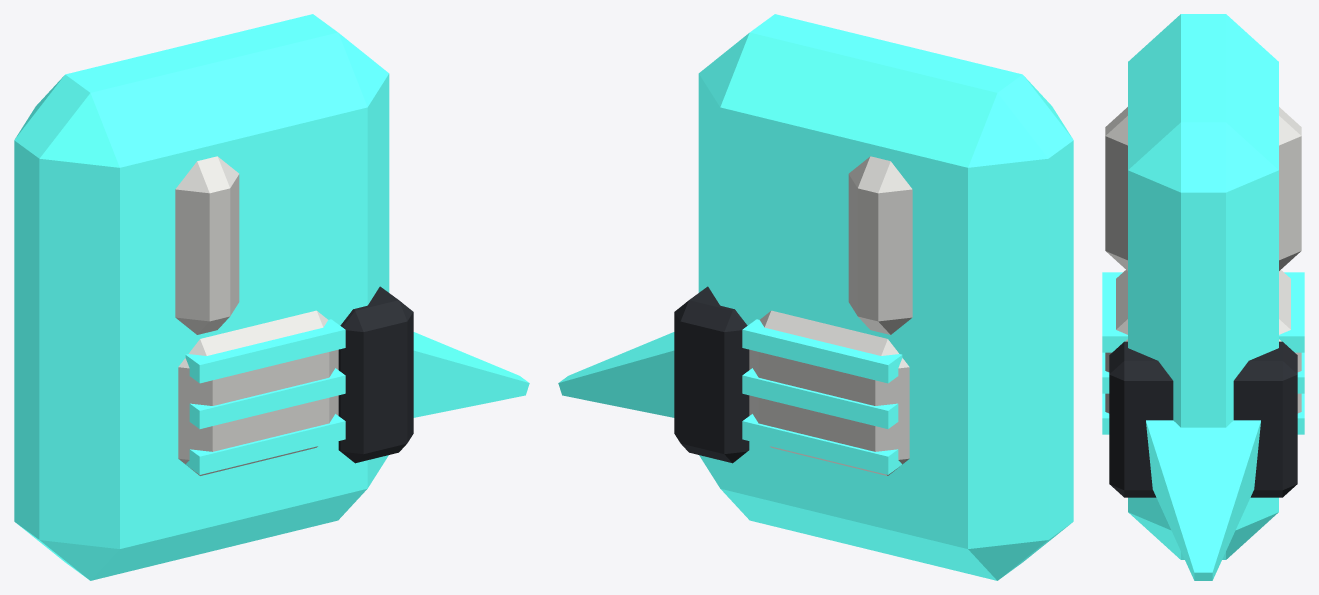
The model's file is quickreply_m0_2.glb.
3 views of the same model, side by side, from view 1: azimuth 30°, elevation 25°; view 2: azimuth 150°, elevation 25°; view 3: azimuth 270°, elevation 25° (orthographic). The views are drawn at different scales.
Parts seen in each view (by area): view 1: quickreply_m0_2_mesh; view 2: quickreply_m0_2_mesh; view 3: quickreply_m0_2_mesh.
Boxes of the visible parts, <box> form: quickreply_m0_2_mesh: <box>14,14,529,580</box>; quickreply_m0_2_mesh: <box>558,14,1073,580</box>; quickreply_m0_2_mesh: <box>1102,14,1304,580</box>.
Bounding box in the file's own units: 0.3416 × 0.32 × 0.134.
